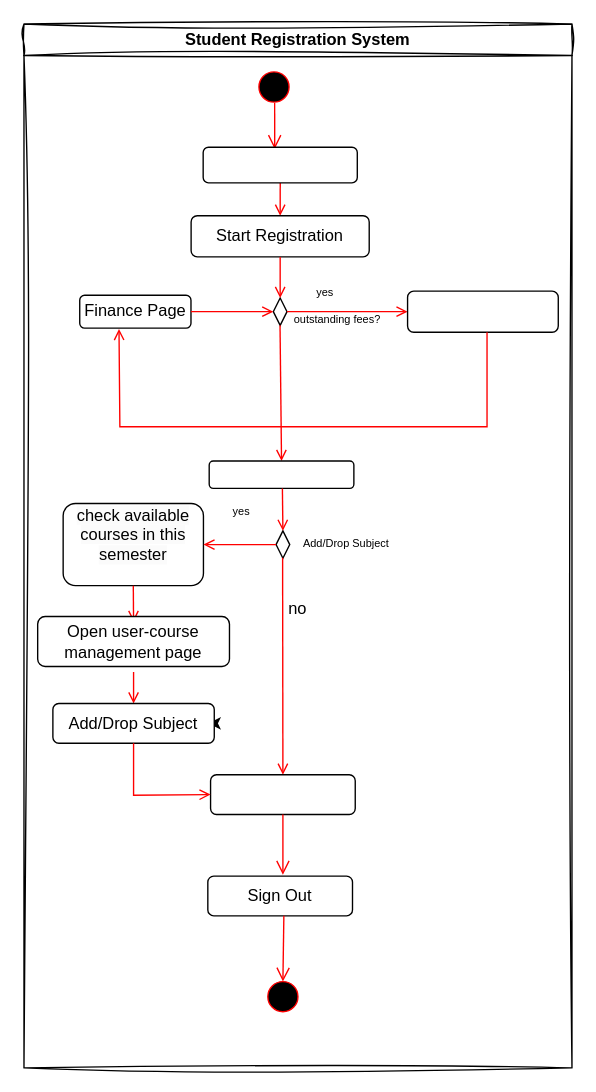
This 596x1092 diagram has some shape labels left out. Each missing label, with the centre of its shape:
"Barred Course Registration" belongs at (482,311).
"Generate Registration" belongs at (282,793).
"Login Student ID" belongs at (279,164).
"Register Course" belongs at (281,474).
